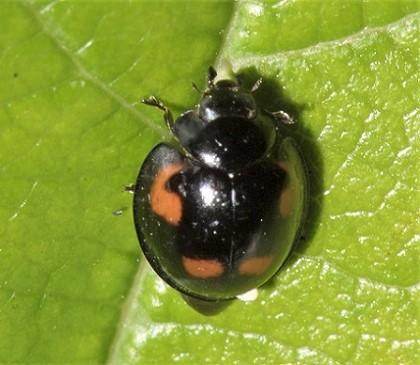BlackScale: (124, 61, 316, 302)
